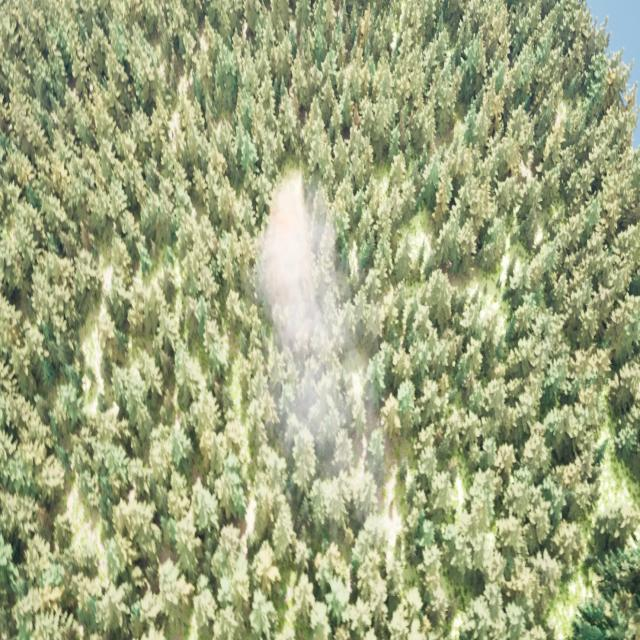smoke: (257, 167, 371, 490)
